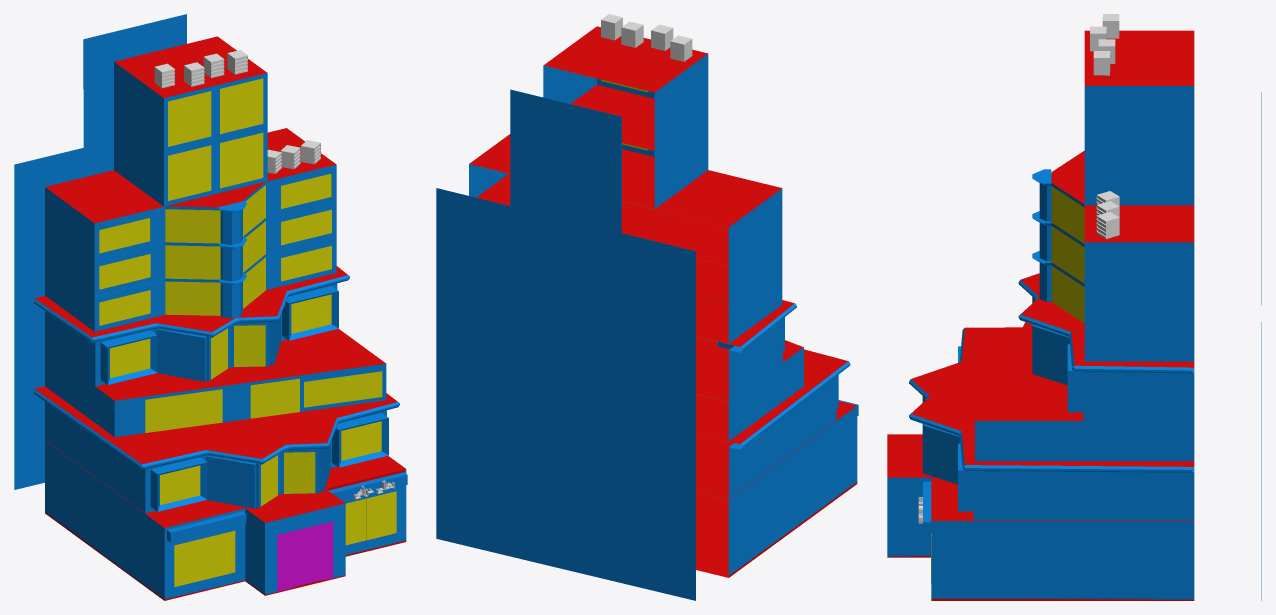
File: SecondLevel.fbx
3 renders of one model, left to right at view 1: azimuth 30°, elevation 25°; view 2: azimuth 150°, elevation 25°; view 3: azimuth 270°, elevation 25°, orthographic. The views are drawn at different scales.
Visible parts, largest first — view 1: wallLoby, BackWall, Wall1, walls4, FloorLevel3, WallsLevel3, FloorLevel4, wall7, wall5, wall6, floor8, floor2 (+38 smaller); view 2: BackWall, wallLoby, floor8, Wall1, floorLast, wallPenhouse2, floor7, wallsPenhouse1, FloorLevel3, WallsLevel3, floor1, wall7 (+8 smaller); view 3: wallLoby, Wall1, walls4, WallsLevel3, FloorLevel3, wallPenhouse2, wallsPenhouse1, wall7, wall5, floorLast, wall6, FloorLevel4 (+8 smaller).
Boxes of the visible parts, box(x1,y1,x2,y2) form: wallLoby: box(45, 441, 407, 599); BackWall: box(14, 14, 186, 489); Wall1: box(33, 389, 399, 513); walls4: box(33, 275, 349, 386); FloorLevel3: box(34, 386, 397, 464); WallsLevel3: box(45, 350, 386, 437); FloorLevel4: box(96, 328, 385, 400); wall7: box(45, 164, 336, 259); wall5: box(45, 237, 336, 331); wall6: box(45, 200, 336, 295); floor8: box(45, 128, 336, 223); floor2: box(45, 440, 405, 527); BackWall: box(436, 89, 695, 600); wallLoby: box(728, 400, 858, 576); floor8: box(469, 134, 781, 227); Wall1: box(698, 361, 850, 498); floorLast: box(543, 26, 707, 92); wallPenhouse2: box(543, 54, 708, 150); floor7: box(476, 174, 728, 265); wallsPenhouse1: box(622, 112, 708, 208); FloorLevel3: box(696, 349, 848, 443); WallsLevel3: box(697, 347, 803, 440); floor1: box(696, 482, 857, 577); wall7: box(469, 164, 782, 265); wallLoby: box(887, 477, 1194, 599); Wall1: box(909, 328, 1194, 520); walls4: box(1018, 280, 1194, 420); WallsLevel3: box(975, 421, 1194, 461); FloorLevel3: box(911, 327, 1194, 466); wallPenhouse2: box(1084, 86, 1194, 145); wallsPenhouse1: box(1084, 145, 1194, 205); wall7: box(1032, 169, 1194, 281); wall5: box(1032, 251, 1194, 361); floorLast: box(1084, 30, 1194, 85); wall6: box(1032, 211, 1194, 321); FloorLevel4: box(975, 322, 1083, 420).
Bounding box in the file's own units: 1542 × 2506 × 1708.
